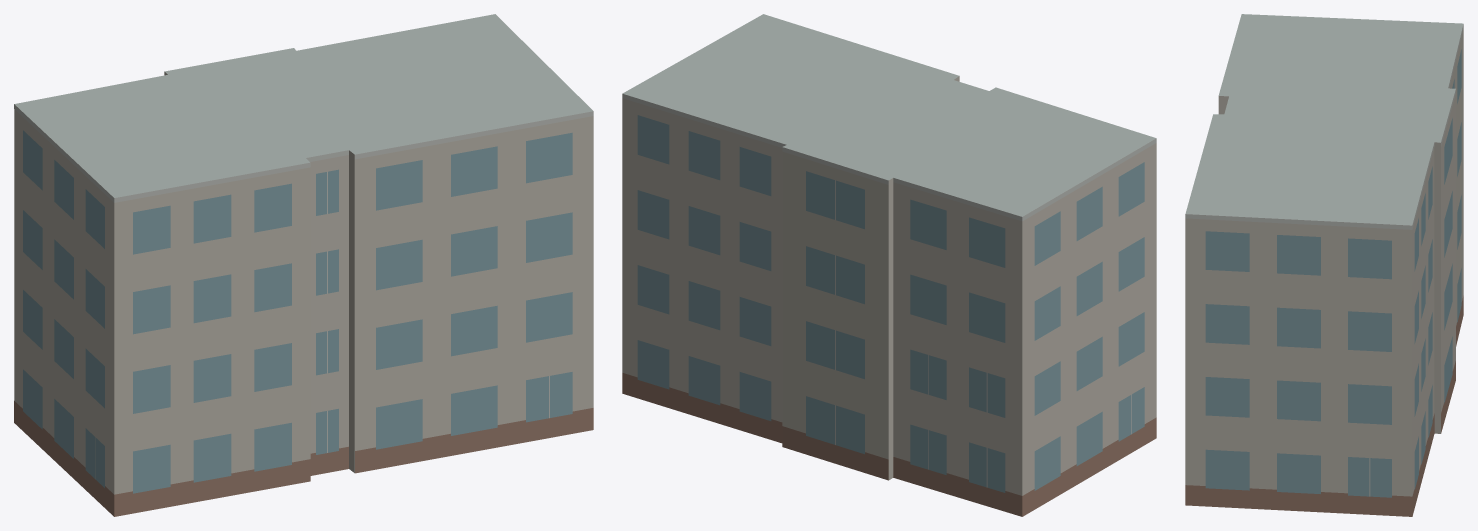
The model's file is survey-upis-32500587.glb.
3 renders of one model, left to right at view 1: azimuth 30°, elevation 25°; view 2: azimuth 150°, elevation 25°; view 3: azimuth 270°, elevation 25°, orthographic. The views are drawn at different scales.
Parts seen in each view (by area): view 1: survey-upis-32500587.tmp; view 2: survey-upis-32500587.tmp; view 3: survey-upis-32500587.tmp.
Part boxes in pixels (x1,y1,x2,y2): survey-upis-32500587.tmp: (14, 14, 593, 516); survey-upis-32500587.tmp: (622, 14, 1156, 516); survey-upis-32500587.tmp: (1185, 14, 1463, 516).
Bounding box in the file's own units: 25.4 × 16.3 × 14.12.
